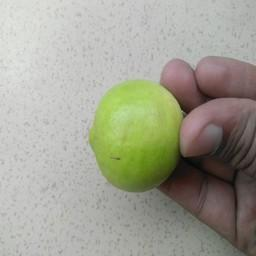Good_lime: (86, 76, 188, 198)
